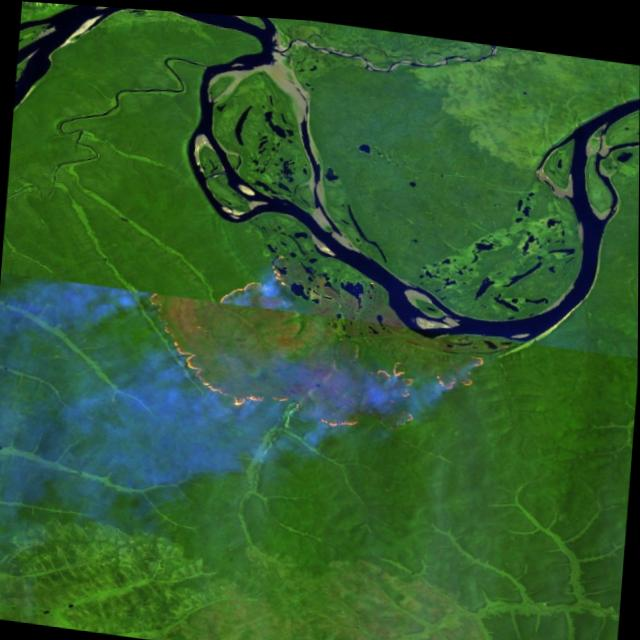fire: (138, 261, 491, 440)
